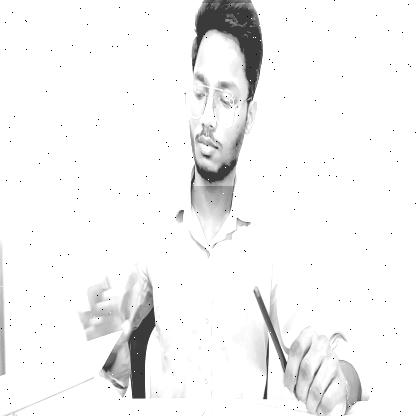Distracted: (186, 3, 266, 186)
